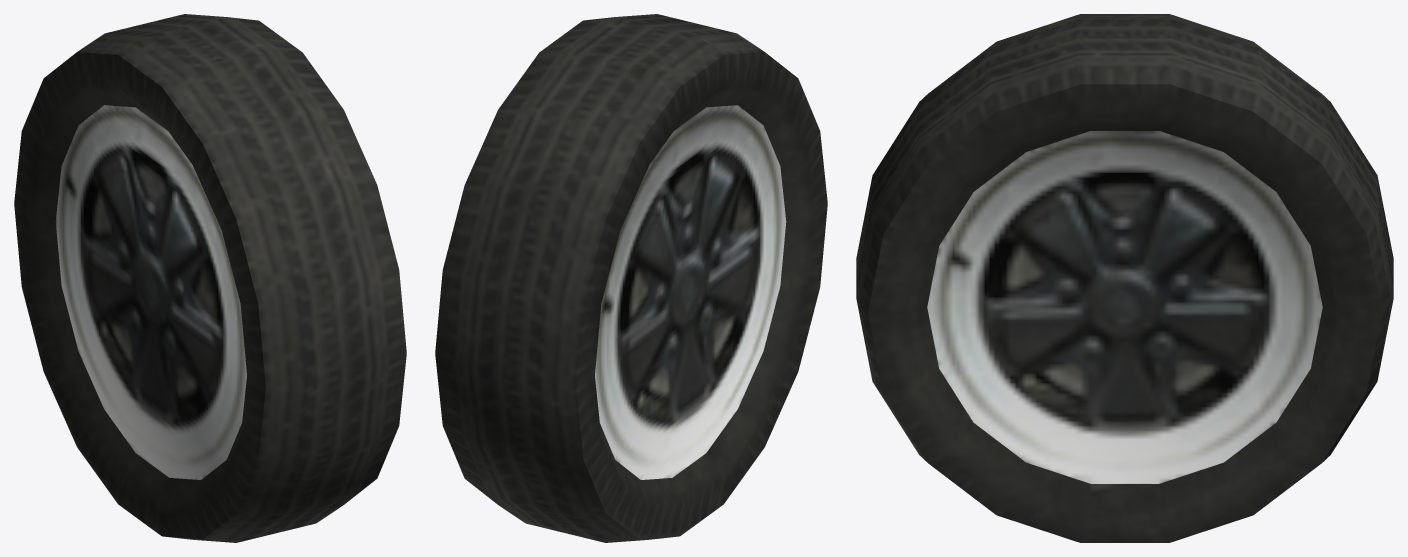
The model's file is G_LP_Wheel.FBX.
The picture shows the model from 3 angles, left to right: view 1: azimuth 30°, elevation 25°; view 2: azimuth 150°, elevation 25°; view 3: azimuth 270°, elevation 25°; orthographic projection. The views are drawn at different scales.
Visible parts, largest first — view 1: Object001; view 2: Object001; view 3: Object001.
Boxes of the visible parts, box(x1,y1,x2,y2) form: Object001: box(14, 14, 406, 542); Object001: box(435, 14, 827, 542); Object001: box(856, 14, 1393, 542).
Bounding box in the file's own units: 160 × 499 × 507.
1 material, 1 textured.
